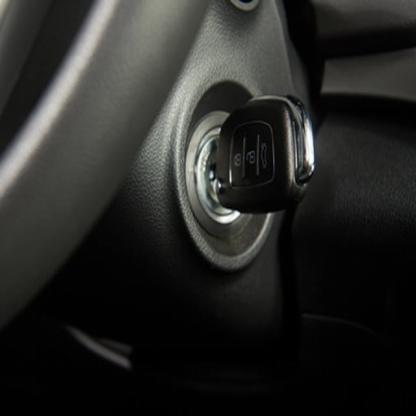keys: (213, 98, 319, 216)
